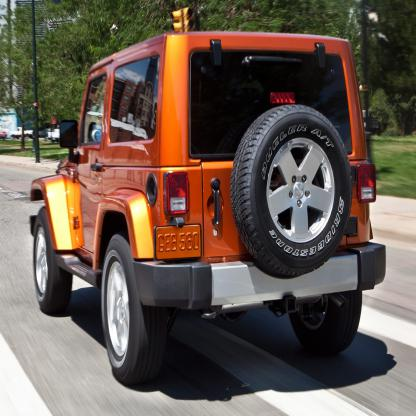Vehicle: (26, 26, 389, 388)
